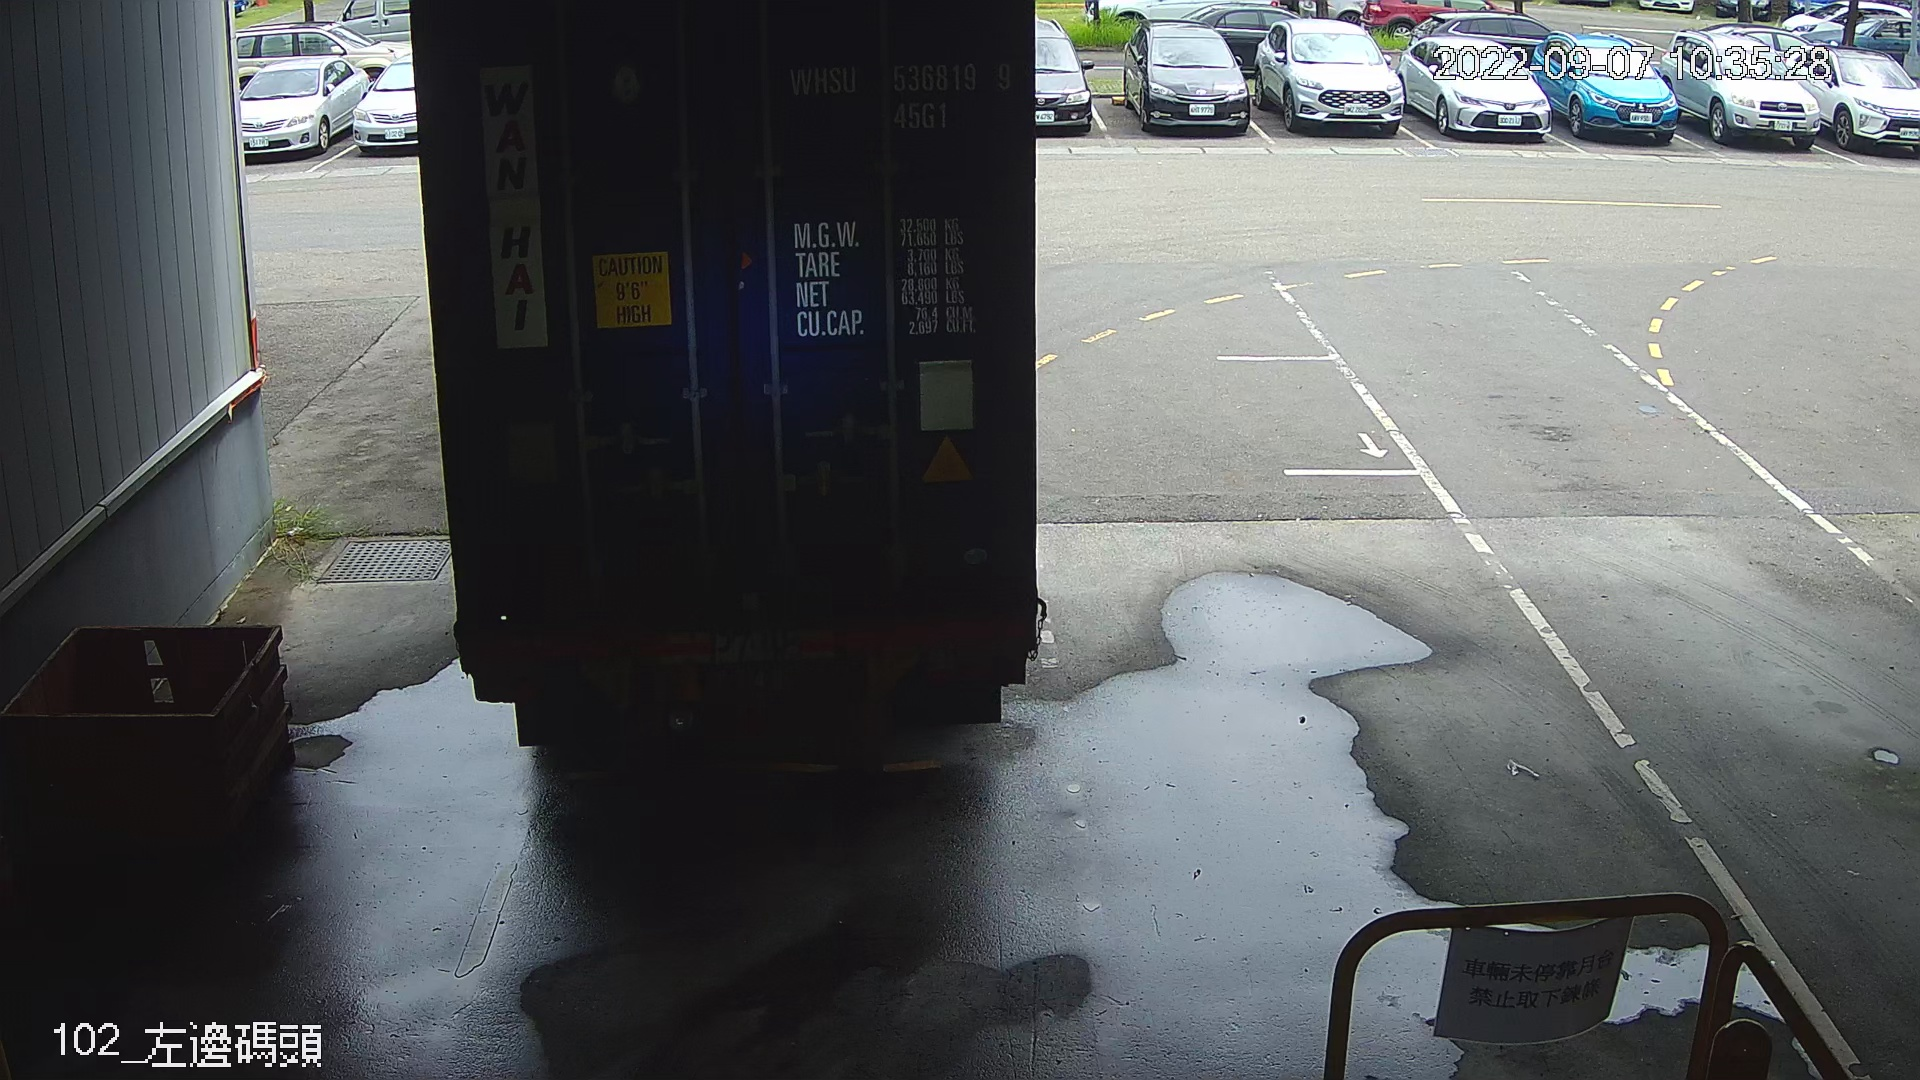container: (785, 51, 1022, 141)
